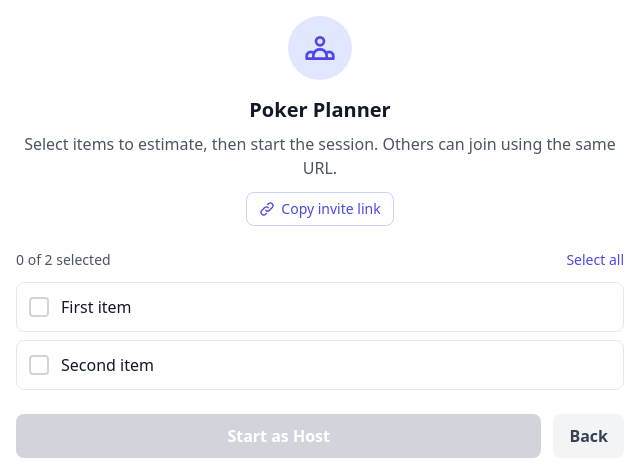
Test case: EstimationFlowPage › Lobby (no active host) › enables Start as Host after selecting items
The image size is (641, 475).
Expected: the text "First item" is shown, x1=61 y1=296 x2=132 y2=318
Click the button "First item" at (96, 307), box x1=16 y1=282 x2=624 y2=332
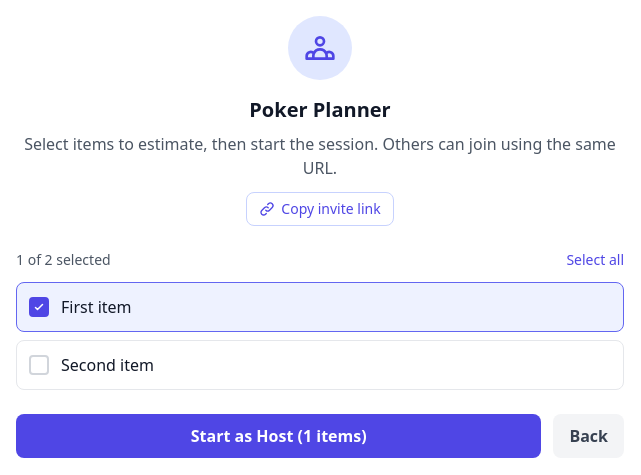
Result: the button "Start as Host (1 items)" is enabled at x1=16 y1=414 x2=541 y2=458
